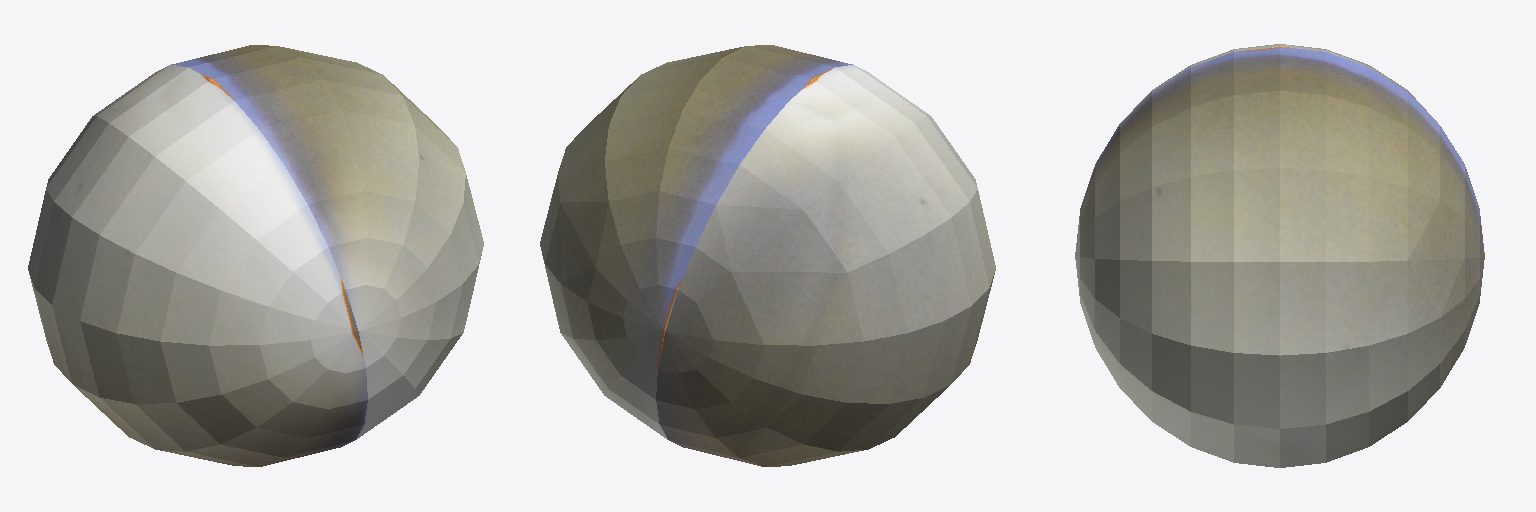
3 renders of one model, left to right at view 1: azimuth 30°, elevation 25°; view 2: azimuth 150°, elevation 25°; view 3: azimuth 270°, elevation 25°, orthographic.
Parts seen in each view (by area): view 1: emb_py_2; view 2: emb_py_2; view 3: emb_py_2.
Boxes of the visible parts, x1,y1,x2,y2 form: emb_py_2: [28, 45, 483, 466]; emb_py_2: [540, 45, 995, 466]; emb_py_2: [1075, 44, 1484, 467].
Size of the model in its own units: 2 by 1.75 by 1.74.
Materials: 1 (1 with a texture image).